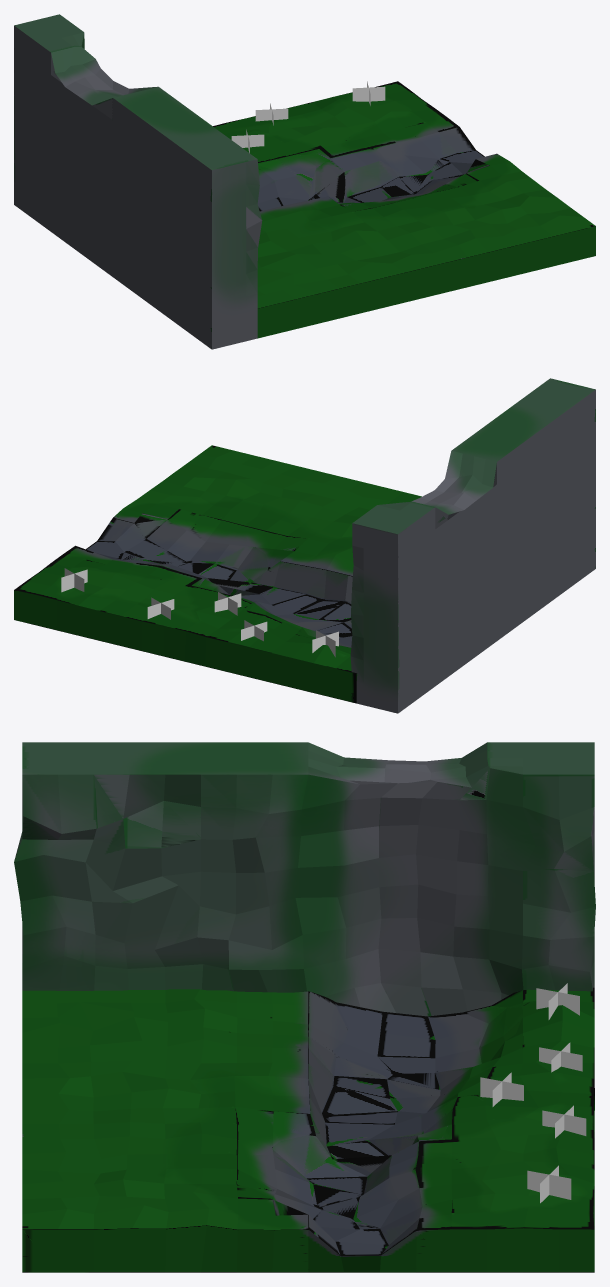
File: Ground.fbx
The picture shows the model from 3 angles, top to bottom: view 1: azimuth 30°, elevation 25°; view 2: azimuth 150°, elevation 25°; view 3: azimuth 270°, elevation 25°; orthographic projection. The views are drawn at different scales.
Visible parts, largest first — view 1: Ground; view 2: Ground; view 3: Ground.
Part boxes in pixels (<box>): Ground: <box>14,14,595,349</box>; Ground: <box>14,378,595,713</box>; Ground: <box>14,742,595,1272</box>.
Size of the model in its own units: 1390 by 601 by 1220.
3 materials, 2 textured.
